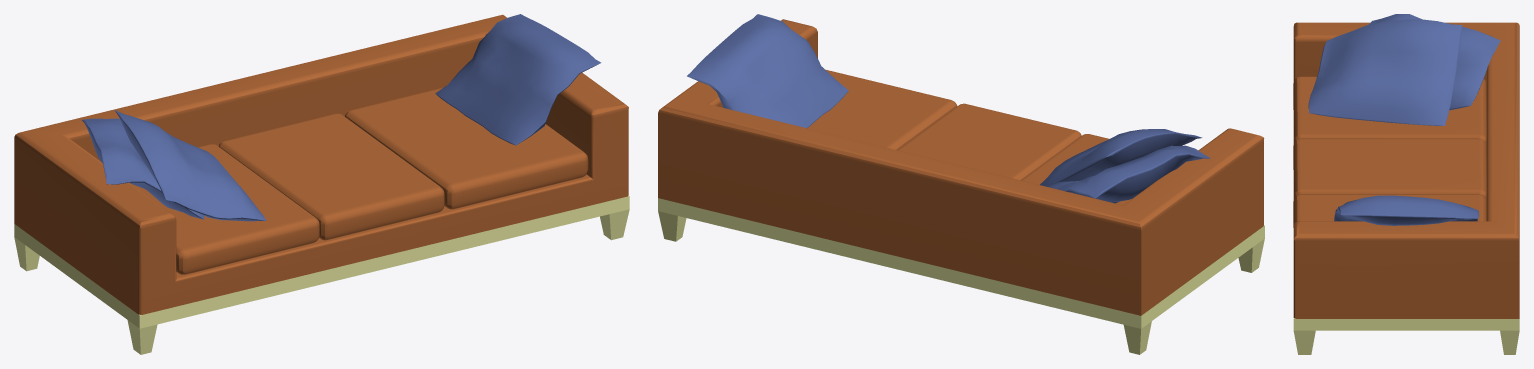
File: Couch_SketchFab.fbx
3 views of the same model, side by side, from view 1: azimuth 30°, elevation 25°; view 2: azimuth 150°, elevation 25°; view 3: azimuth 270°, elevation 25° (orthographic). The views are drawn at different scales.
Parts seen in each view (by area): view 1: Couch_Top1, Couch_Cushion2, Couch_Cushion3, Couch_Pillow2, Couch_Base1, Couch_Cushion1, Couch_Pillow3, Couch_Pillow1; view 2: Couch_Top1, Couch_Pillow2, Couch_Base1, Couch_Cushion2, Couch_Cushion3, Couch_Pillow1, Couch_Pillow3, Couch_Cushion1; view 3: Couch_Top1, Couch_Pillow3, Couch_Cushion2, Couch_Cushion1, Couch_Base1, Couch_Pillow2, Couch_Pillow1, Couch_Cushion3.
Part boxes in pixels (left/top/right/bottom): Couch_Top1: left=14, top=14, right=628, bottom=314; Couch_Cushion2: left=218, top=113, right=444, bottom=240; Couch_Cushion3: left=345, top=87, right=588, bottom=209; Couch_Pillow2: left=435, top=14, right=601, bottom=145; Couch_Base1: left=14, top=195, right=629, bottom=354; Couch_Cushion1: left=132, top=144, right=319, bottom=274; Couch_Pillow3: left=115, top=110, right=266, bottom=221; Couch_Pillow1: left=82, top=118, right=204, bottom=219; Couch_Top1: left=658, top=19, right=1264, bottom=315; Couch_Pillow2: left=687, top=14, right=848, bottom=128; Couch_Base1: left=658, top=198, right=1264, bottom=354; Couch_Cushion2: left=898, top=103, right=1081, bottom=180; Couch_Cushion3: left=808, top=69, right=957, bottom=150; Couch_Pillow1: left=1048, top=145, right=1210, bottom=203; Couch_Pillow3: left=1040, top=129, right=1202, bottom=186; Couch_Cushion1: left=1021, top=134, right=1131, bottom=205; Couch_Top1: left=1293, top=22, right=1519, bottom=318; Couch_Pillow3: left=1308, top=19, right=1462, bottom=125; Couch_Cushion2: left=1293, top=138, right=1486, bottom=201; Couch_Cushion1: left=1293, top=76, right=1486, bottom=145; Couch_Base1: left=1293, top=318, right=1519, bottom=354; Couch_Pillow2: left=1334, top=195, right=1479, bottom=225; Couch_Pillow1: left=1368, top=14, right=1500, bottom=110; Couch_Cushion3: left=1293, top=194, right=1486, bottom=227.
Bounding box in the file's own units: 15.87 × 5.11 × 7.05.
1 material, 1 textured.
